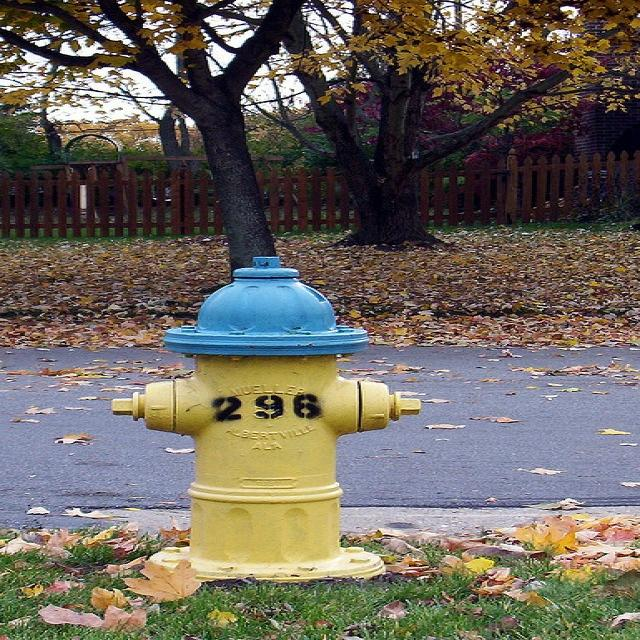fire_hydrant: (110, 256, 419, 582)
